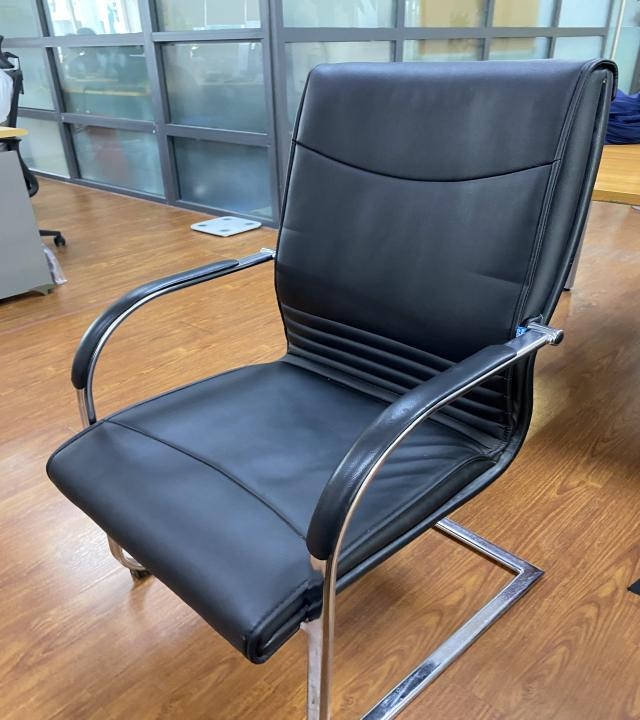SS_03: (43, 54, 622, 720)
